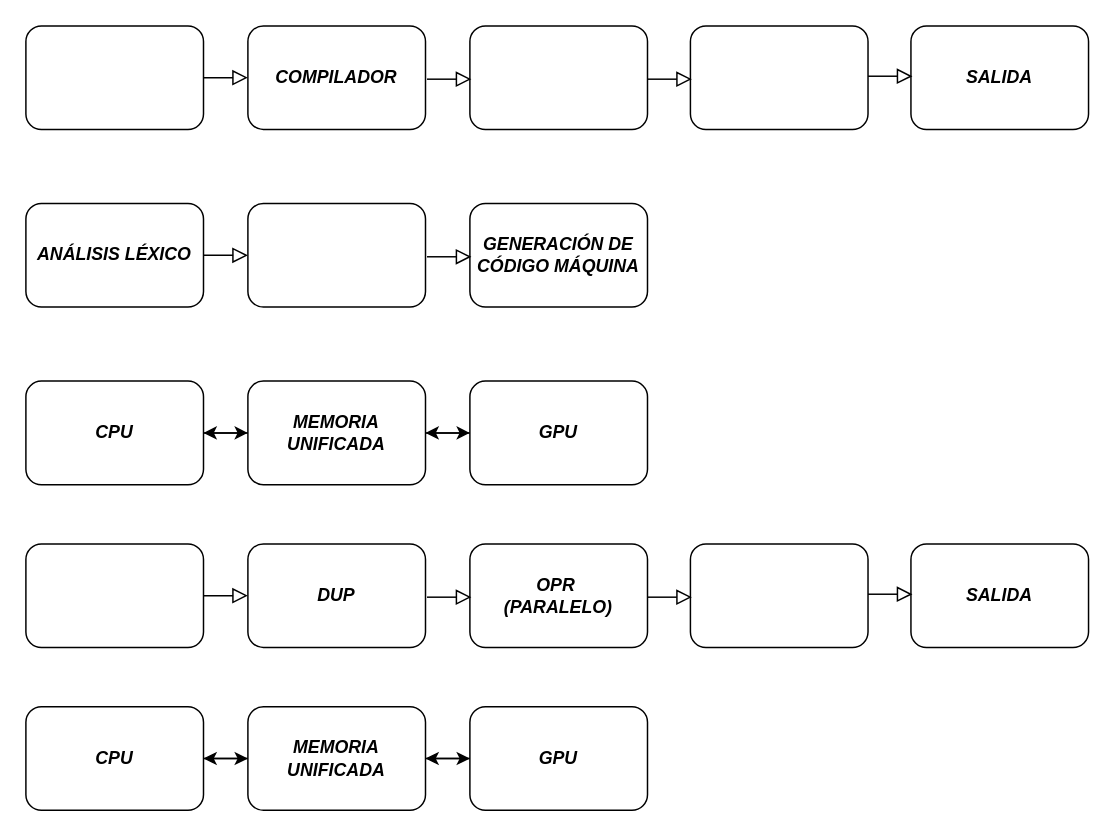
Image size: 1114x836. Some labels were removed from this diagram. Each missing label, with the box of its shape:
CON: (689, 542, 868, 648)
CPU / GPU: (689, 24, 868, 130)
CÓDIGO FUENTE: (24, 24, 204, 130)
EJECUTOR EN PARALELO: (468, 24, 648, 130)
ENTRADA: (24, 542, 204, 648)
OPTIMIZACIÓN INTERMAEDIA: (246, 202, 426, 307)
